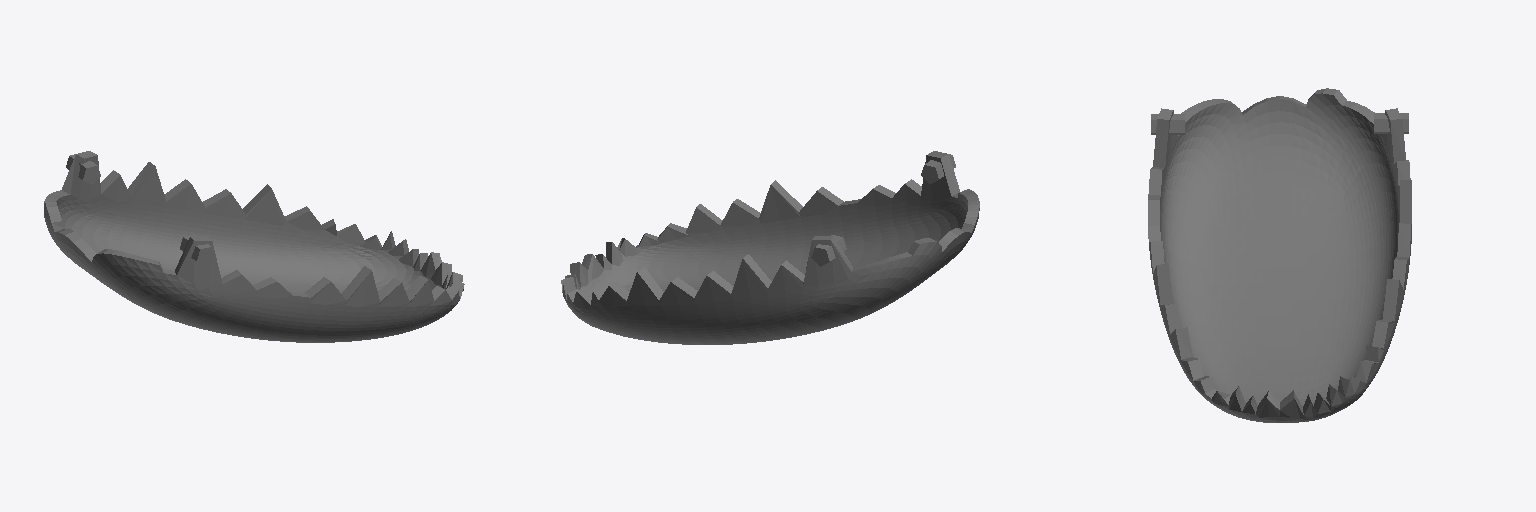
Rendered from mandibula.obj.
The picture shows the model from 3 angles: view 1: azimuth 30°, elevation 25°; view 2: azimuth 150°, elevation 25°; view 3: azimuth 270°, elevation 25°; orthographic projection.
Parts seen in each view (by area): view 1: mandibula; view 2: mandibula; view 3: mandibula.
Boxes of the visible parts, x1=… form: mandibula: x1=44, y1=151, x2=464, y2=342; mandibula: x1=561, y1=151, x2=979, y2=344; mandibula: x1=1148, y1=88, x2=1411, y2=422.
Bounding box in the file's own units: 2.68 × 1.19 × 1.61.